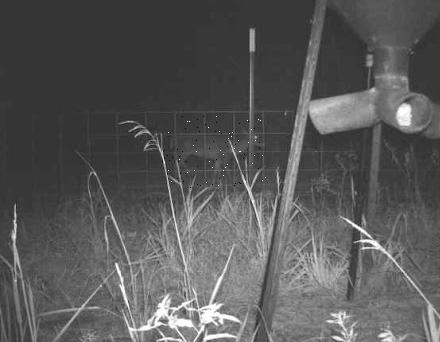Deer: (165, 116, 268, 188)
